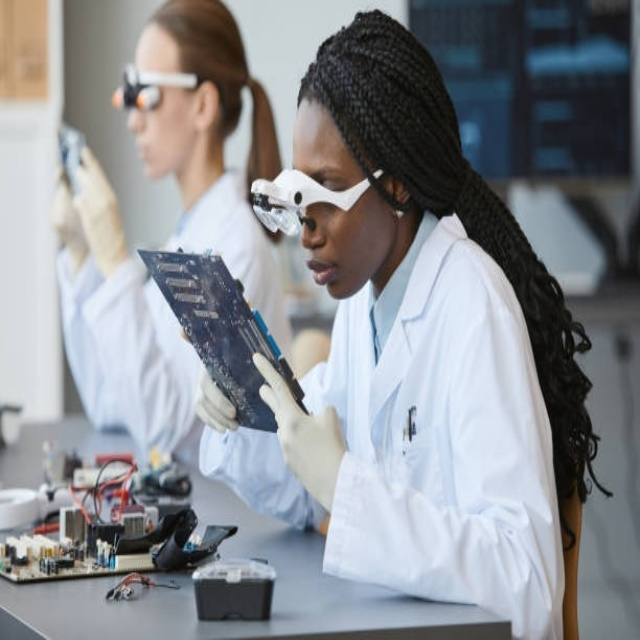Gafas: (249, 165, 393, 236), (112, 66, 201, 111)
Guantes: (249, 351, 344, 504), (71, 141, 128, 276), (191, 351, 235, 436)
Sin_mascara: (128, 125, 175, 176), (302, 251, 346, 304)
